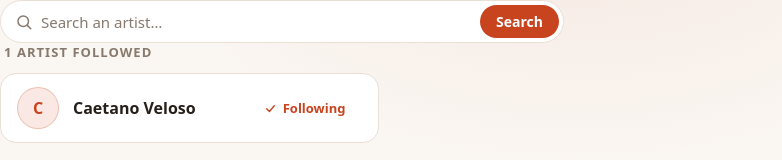
Scenario: marks artists that are already followed
This screenshot has width=782, height=160.
Type "caetano" into the field with placeholder "Search an artist…" at (257, 22), box [41, 6, 472, 38]
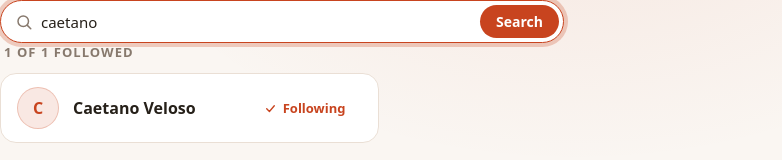
Click the button "Search" at (520, 22), box [480, 5, 559, 38]
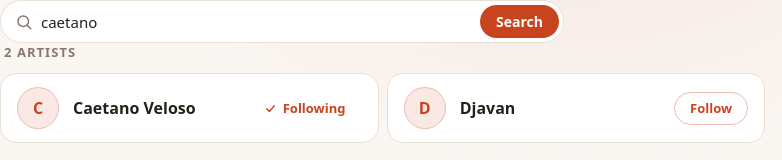
expect the text "Following" is shown: met, box [264, 99, 346, 117]
expect the text "Djavan" is shown: met, box [460, 97, 515, 119]
